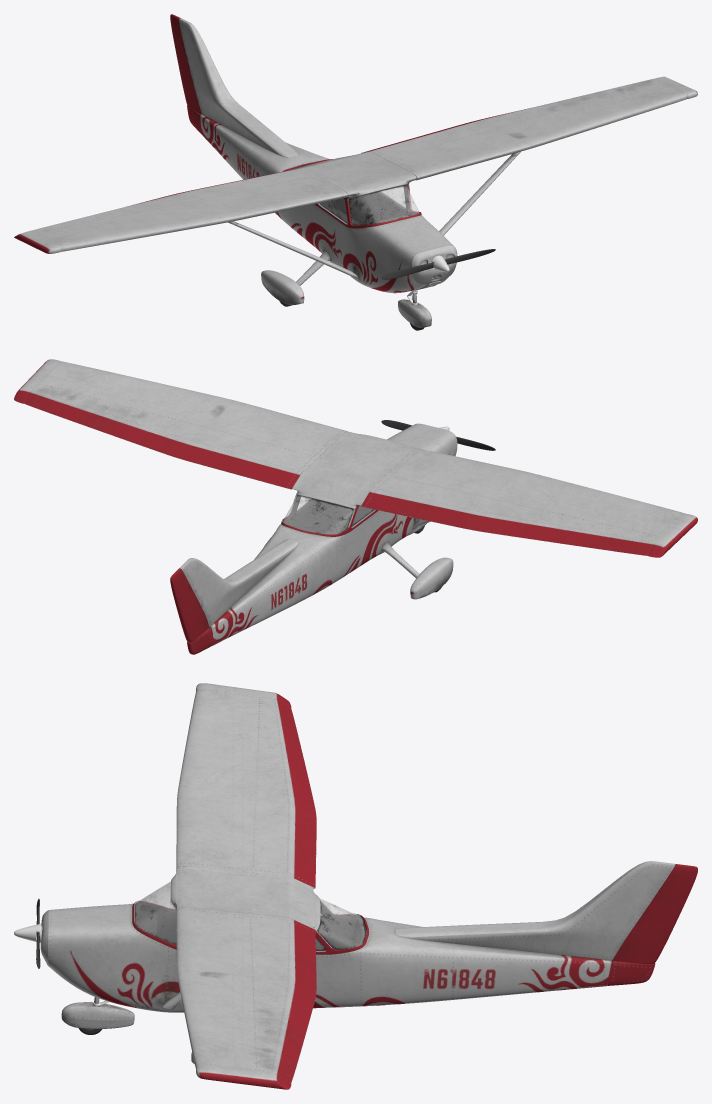
File: cessna.glb
3 renders of one model, top to bottom at view 1: azimuth 30°, elevation 25°; view 2: azimuth 150°, elevation 25°; view 3: azimuth 270°, elevation 25°, orthographic. The views are drawn at different scales.
Visible parts, largest first — view 1: body, glass, interior, engine; view 2: body, glass, interior; view 3: body, glass, interior.
Boxes of the visible parts, left/top/right/bottom form: body: left=14, top=14, right=697, bottom=327; glass: left=291, top=164, right=419, bottom=224; interior: left=286, top=163, right=418, bottom=225; engine: left=381, top=249, right=495, bottom=279; body: left=14, top=359, right=697, bottom=654; glass: left=283, top=495, right=374, bottom=534; interior: left=282, top=495, right=374, bottom=534; body: left=40, top=683, right=697, bottom=1089; glass: left=135, top=881, right=365, bottom=950; interior: left=135, top=901, right=366, bottom=950.
Size of the model in its own units: 14.07 by 2.88 by 10.39.
6 materials, 3 textured.
